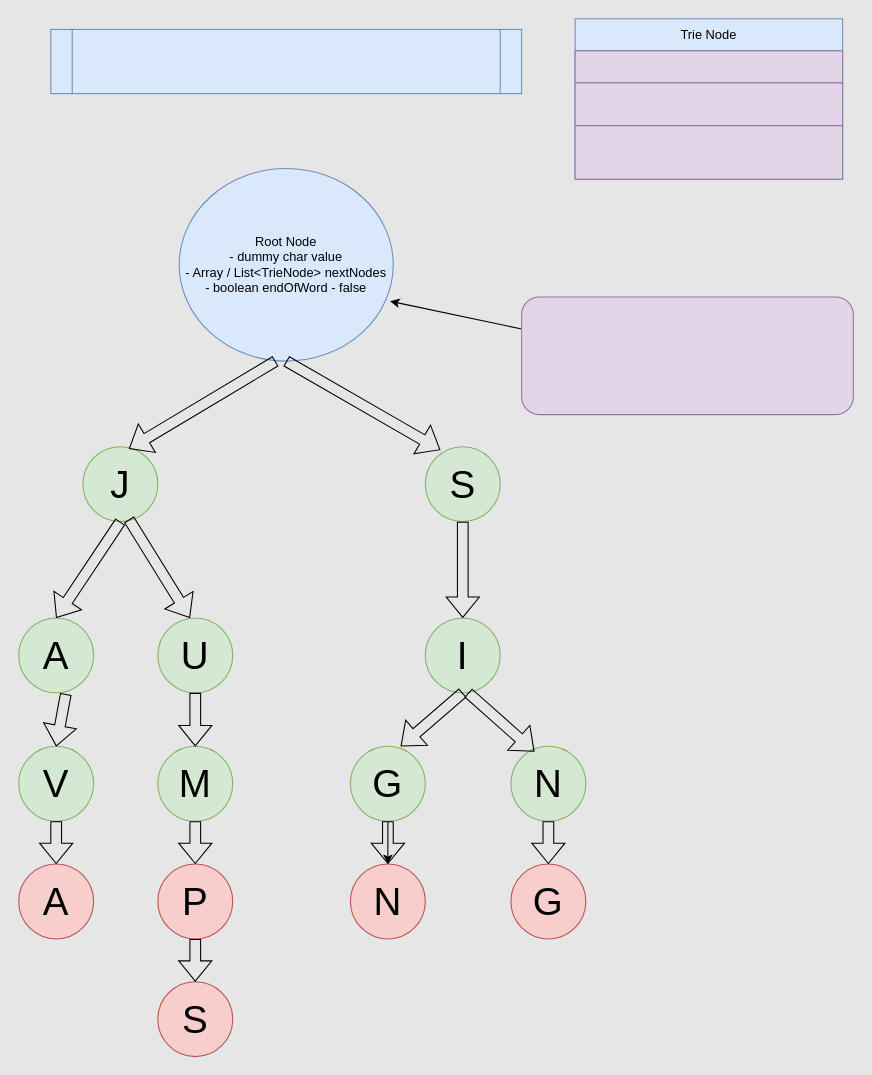
Image size: 872x1075. Some labels were removed from this diagram. Here are the shapes that lost their labels. From the top down, the box of each, then its label:
(50, 28, 522, 94): A Trie is a graph data structure that uses nodes to direct the flow
(574, 50, 843, 83): Has a value
(574, 82, 843, 126): Has a data structure holding the references to the next nodes
(574, 125, 843, 179): Specifies if it is the end of word or not
(521, 296, 853, 415): A Trie containing the words: JUMPS JAVA SIGN SiNG JUMP
